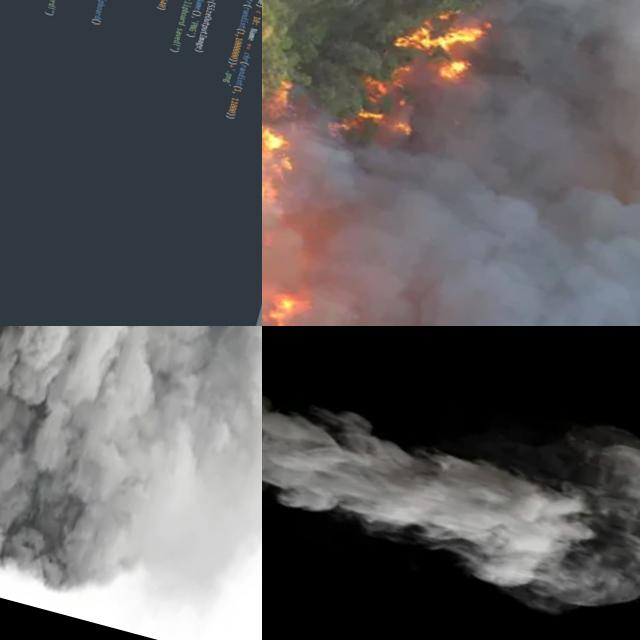smoke: (262, 0, 640, 326), (262, 327, 640, 640), (0, 326, 262, 640)
